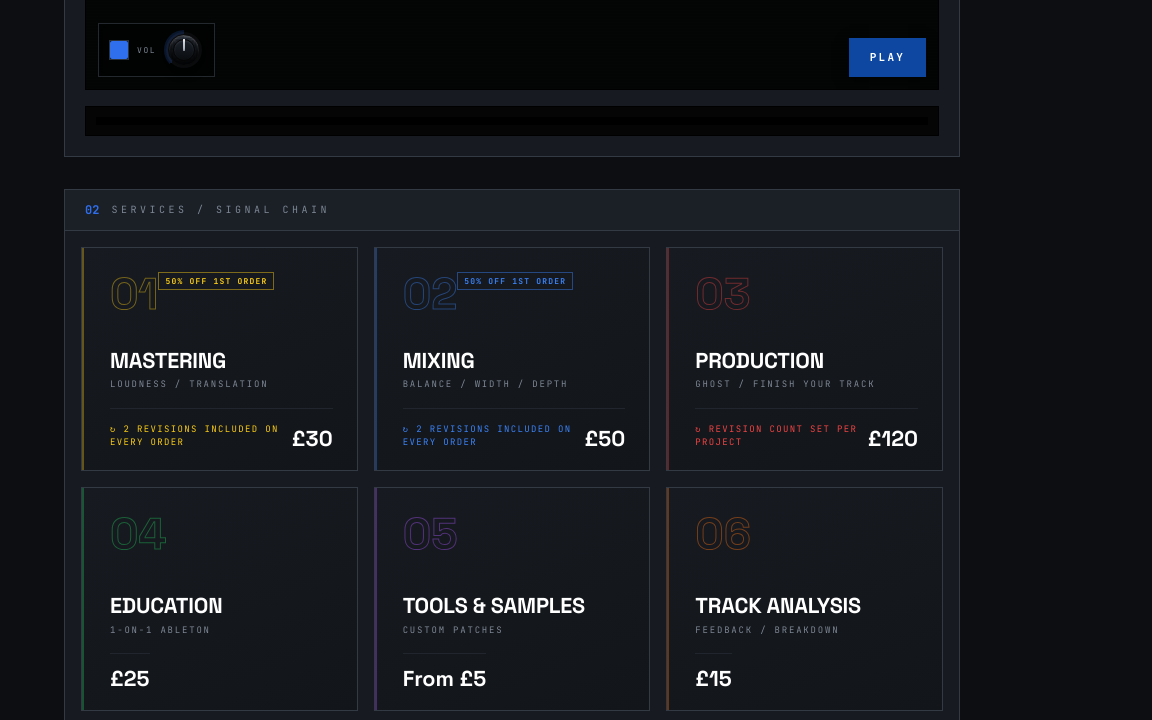
Test: App › opens the service modal when a card is clicked
(page scrolled)
Click the heading "Mastering" at (168, 360), box top-left (110, 347), bottom-right (226, 374)
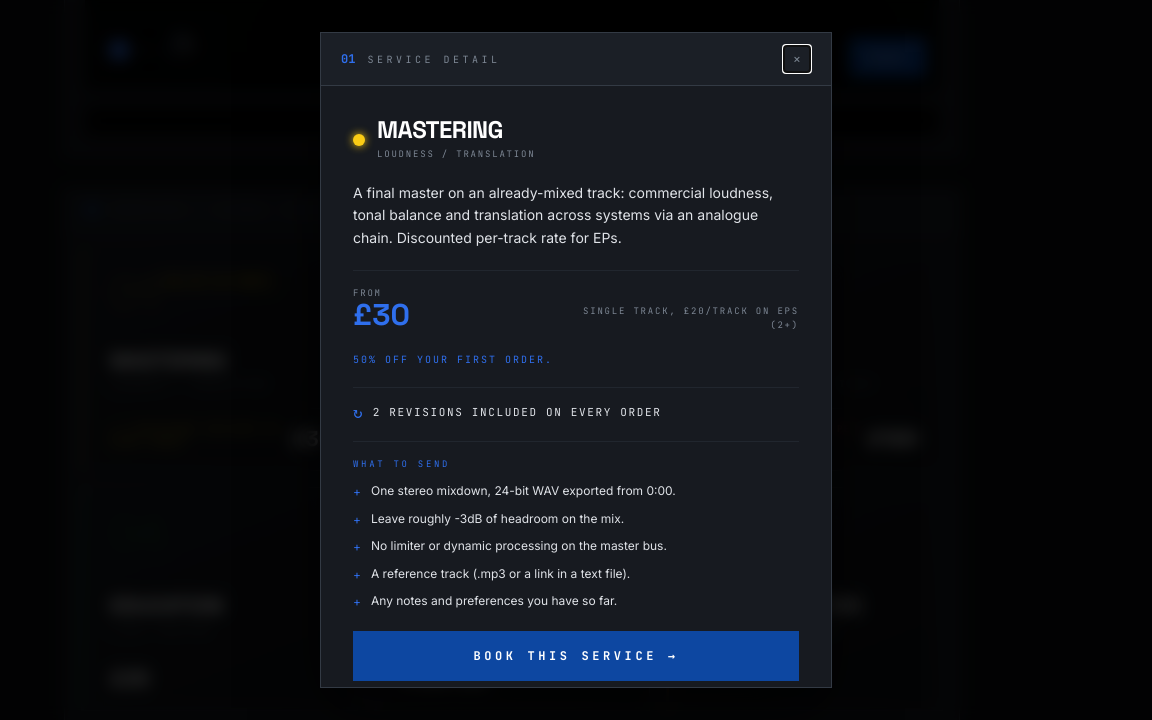
Expected: the dialog is shown
